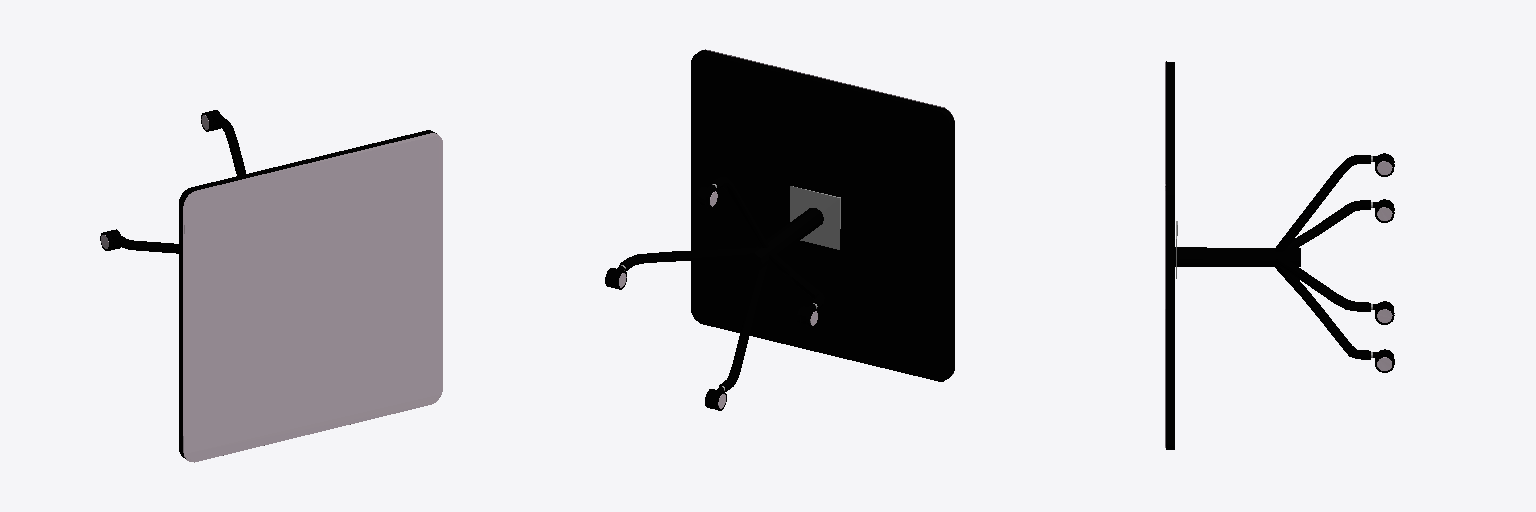
Rendered from office_table2.obj.
3 views of the same model, side by side, from view 1: azimuth 30°, elevation 25°; view 2: azimuth 150°, elevation 25°; view 3: azimuth 270°, elevation 25° (orthographic).
Parts seen in each view (by area): view 1: Cylinder.007_Cylinder.021; view 2: Cylinder.007_Cylinder.021; view 3: Cylinder.007_Cylinder.021.
Boxes of the visible parts, box(x1,y1,x2,y2) form: Cylinder.007_Cylinder.021: box(100, 110, 442, 462); Cylinder.007_Cylinder.021: box(605, 49, 954, 410); Cylinder.007_Cylinder.021: box(1165, 61, 1394, 449).
Size of the model in its own units: 300 by 300 by 230.